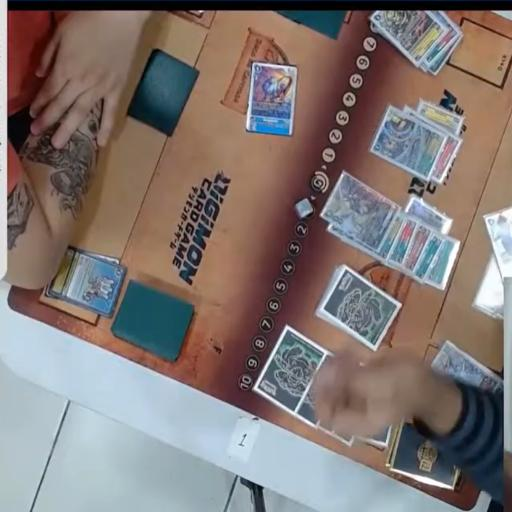card: (320, 171, 400, 252), (369, 105, 447, 181), (49, 246, 126, 317), (370, 11, 447, 67), (246, 61, 297, 136), (431, 340, 503, 392), (484, 207, 512, 278), (404, 195, 453, 234), (424, 237, 459, 289), (416, 99, 464, 136), (427, 14, 459, 64), (430, 134, 462, 183), (388, 216, 418, 266), (414, 233, 443, 280), (403, 224, 431, 271), (380, 213, 402, 259)
